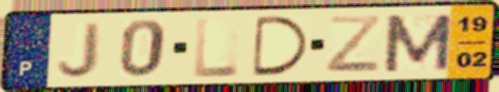0: (116, 18, 169, 80)
D: (251, 14, 313, 78)
J: (55, 21, 105, 80)
L: (192, 15, 242, 80)
M: (381, 12, 456, 74)
Z: (323, 14, 384, 74)
